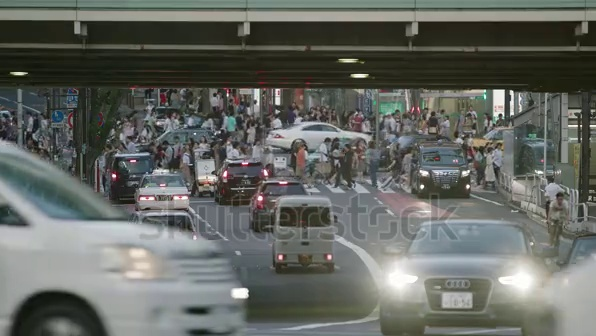licenseplate: (440, 287, 475, 307)
